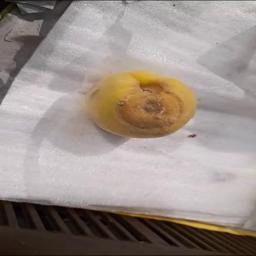Peach Rotten: (77, 64, 205, 148)
